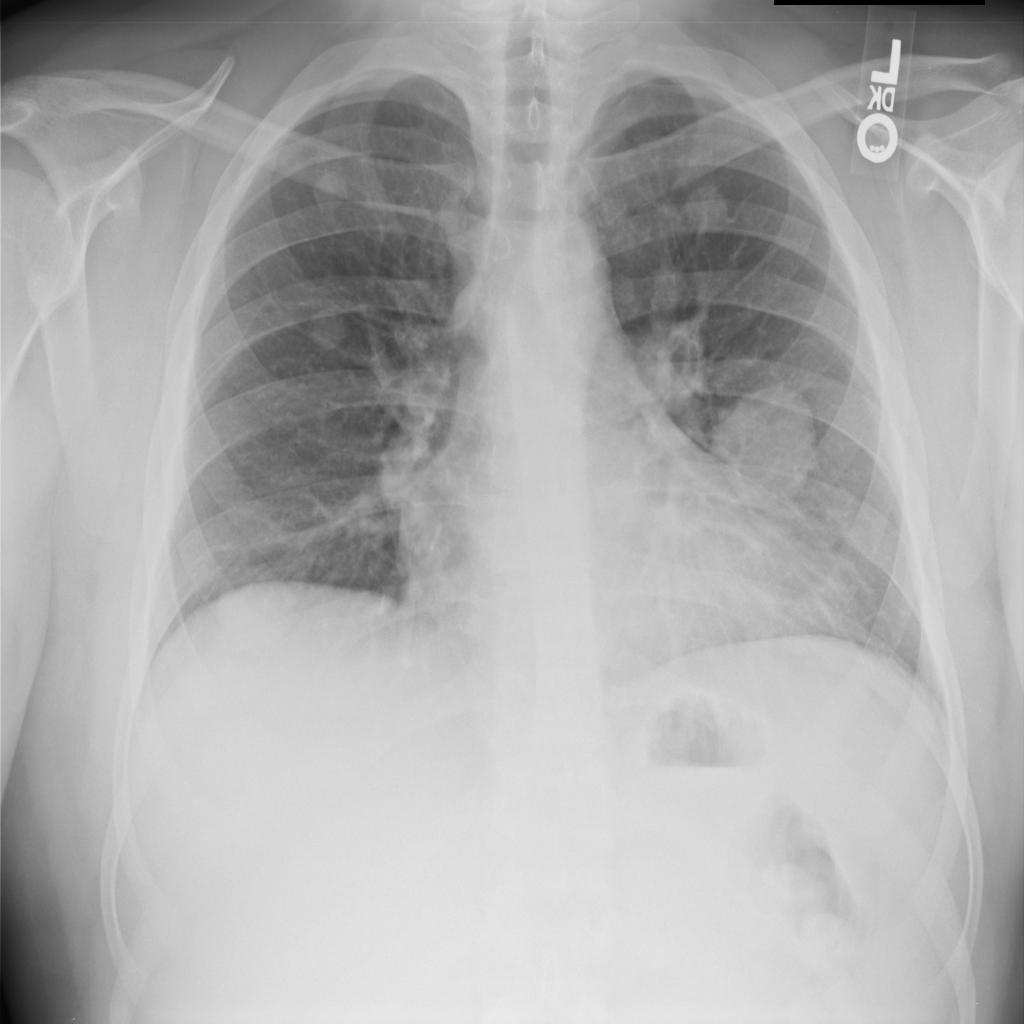nodule: (698, 365, 827, 524), (669, 166, 742, 239), (290, 287, 361, 362), (601, 264, 649, 320), (305, 161, 356, 213)
